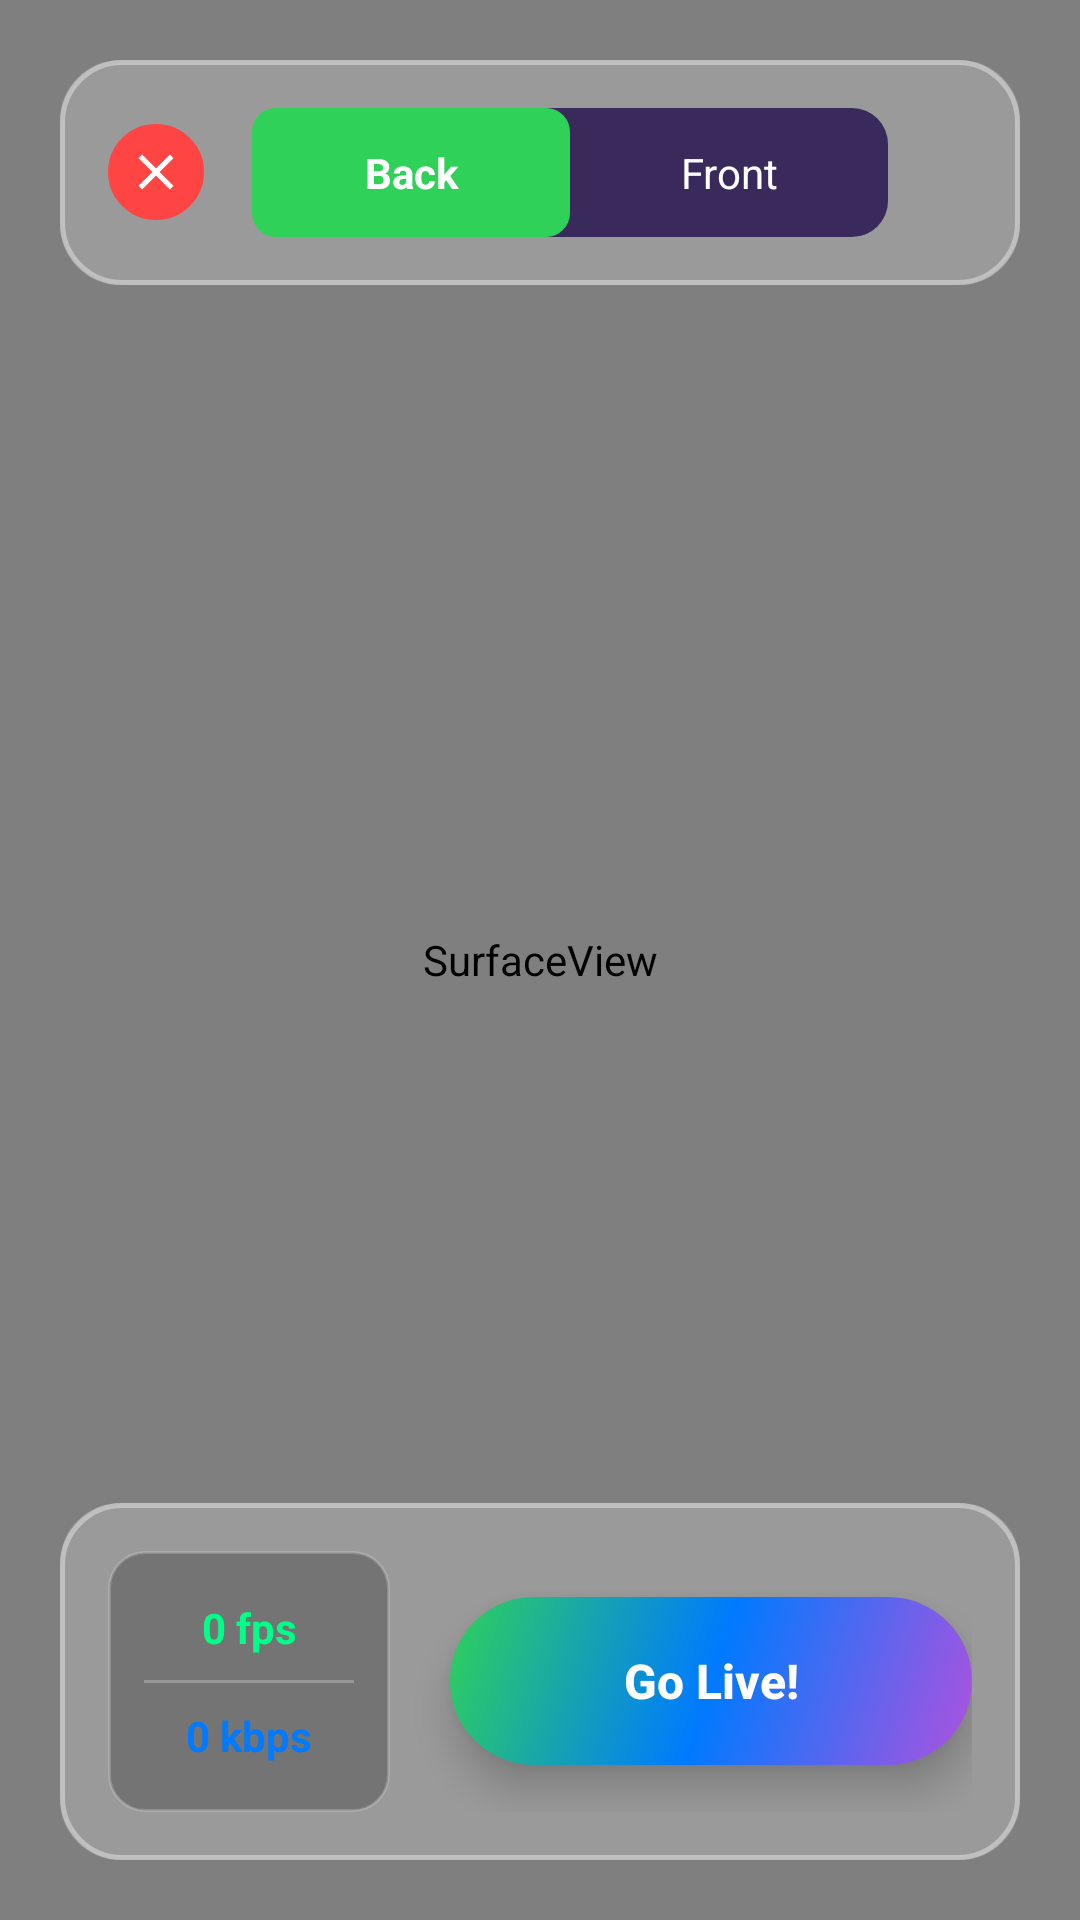

Icon bounding boxes for this 1080w x 1920h phone screenshot, format (x1, y1, x2, y2):
Close: (108, 124, 204, 220)
